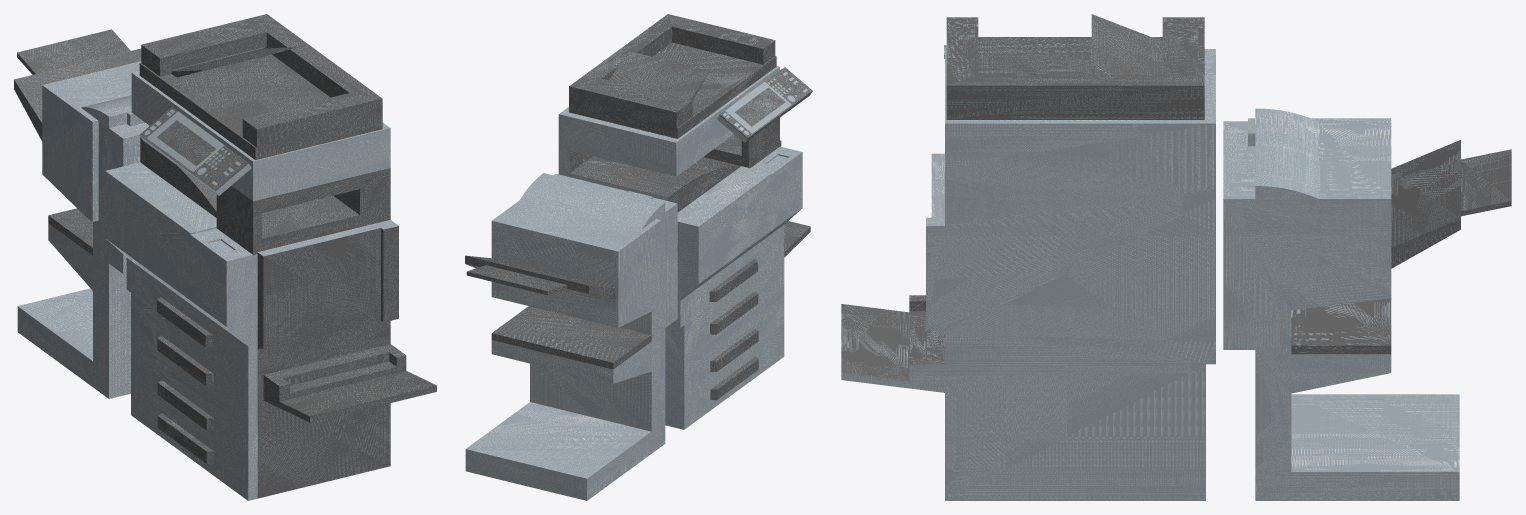
Rendered from photocopier.fbx.
3 views of the same model, side by side, from view 1: azimuth 30°, elevation 25°; view 2: azimuth 150°, elevation 25°; view 3: azimuth 270°, elevation 25° (orthographic). The views are drawn at different scales.
Visible parts, largest first — view 1: Group1; view 2: Group1; view 3: Group1.
Boxes of the visible parts, x1,y1,x2,y2 form: Group1: [14, 14, 436, 500]; Group1: [465, 14, 812, 500]; Group1: [841, 14, 1511, 500].
Size of the model in its own units: 65.99 by 136 by 196.
